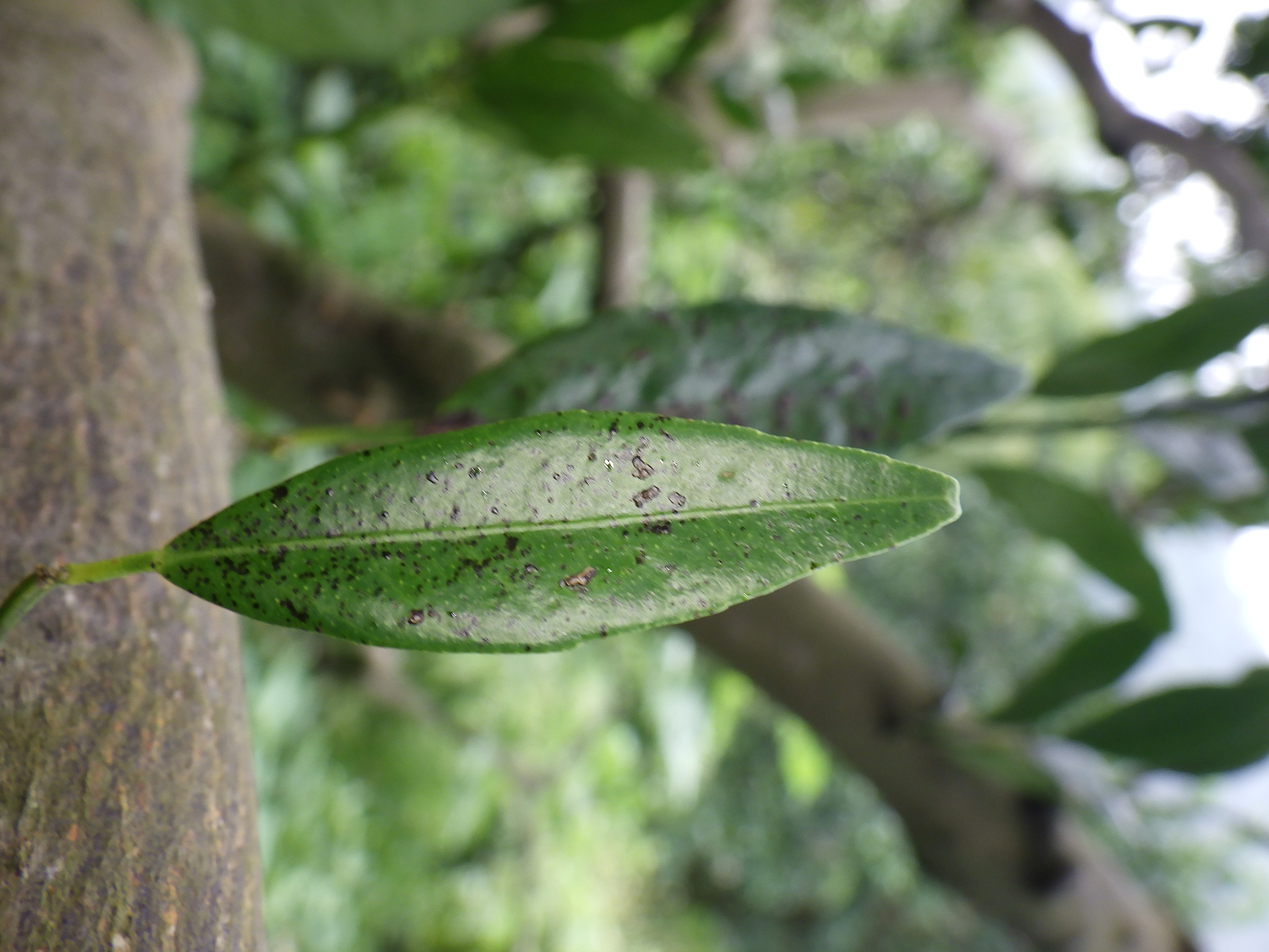Black_Spot: (110, 412, 958, 653)
